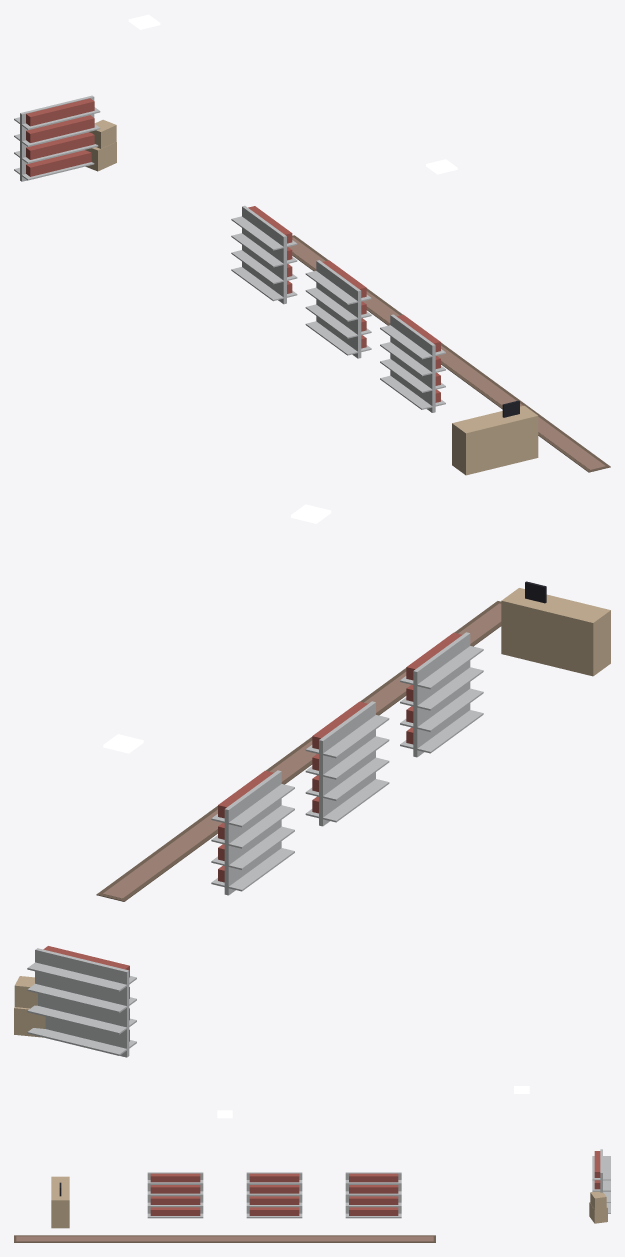
File: fine-s0.glb
3 renders of one model, top to bottom at view 1: azimuth 30°, elevation 25°; view 2: azimuth 150°, elevation 25°; view 3: azimuth 270°, elevation 25°, orthographic. The views are drawn at different scales.
Parts seen in each view (by area): view 1: shelving.000, shop-counter.000, shelf.001, shelf.000, shelf.002, soft-s0, cardboard-box.000; view 2: shelving.000, shop-counter.000, shelf.002, shelf.000, shelf.001, soft-s0, cardboard-box.000; view 3: soft-s0, shelf.000, shelf.001, shelf.002, shop-counter.000, shelving.000, cardboard-box.000.
Boxes of the visible parts, box(x1,y1,x2,y2) form: shelving.000: box(14, 95, 100, 181); shop-counter.000: box(452, 400, 538, 475); shelf.001: box(305, 260, 371, 358); shelf.000: box(231, 205, 297, 304); shelf.002: box(380, 314, 445, 412); soft-s0: box(288, 235, 610, 472); cardboard-box.000: box(85, 119, 116, 171); shelving.000: box(27, 946, 136, 1057); shop-counter.000: box(501, 581, 610, 676); shelf.002: box(400, 632, 483, 757); shelf.000: box(211, 770, 294, 895); shelf.001: box(305, 701, 389, 826); soft-s0: box(96, 601, 501, 901); cardboard-box.000: box(14, 976, 45, 1037); soft-s0: box(14, 1235, 435, 1242); shelf.000: box(345, 1172, 401, 1218); shelf.001: box(246, 1172, 302, 1218); shelf.002: box(147, 1172, 203, 1218); shop-counter.000: box(51, 1176, 69, 1228); shelving.000: box(592, 1149, 610, 1213); cardboard-box.000: box(589, 1191, 607, 1223).
Bounding box in the file's own units: 3.71 × 4.47 × 19.27.
